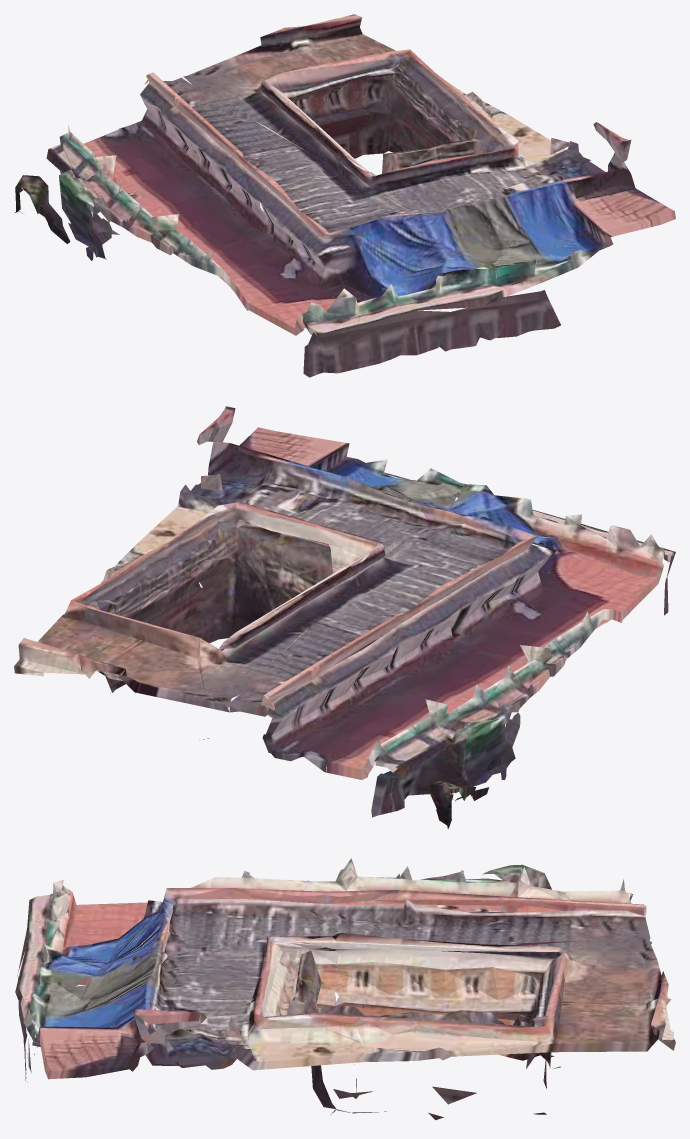
3 views of the same model, one above another, from view 1: azimuth 30°, elevation 25°; view 2: azimuth 150°, elevation 25°; view 3: azimuth 270°, elevation 25° (orthographic). The views are drawn at different scales.
Visible parts, largest first — view 1: Mesh_0; view 2: Mesh_0; view 3: Mesh_0.
Part boxes in pixels (x1=…): Mesh_0: x1=15, y1=14, x2=675, y2=377; Mesh_0: x1=14, y1=406, x2=675, y2=828; Mesh_0: x1=15, y1=858, x2=675, y2=1120.
Bounding box in the file's own units: 33.49 × 10.07 × 39.94.
Materials: 1 (1 with a texture image).
